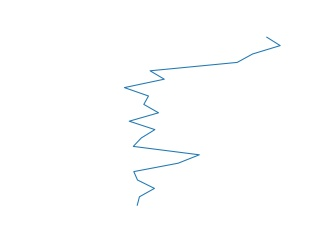crevasseRiverChannelBar: (121, 34, 284, 207)
